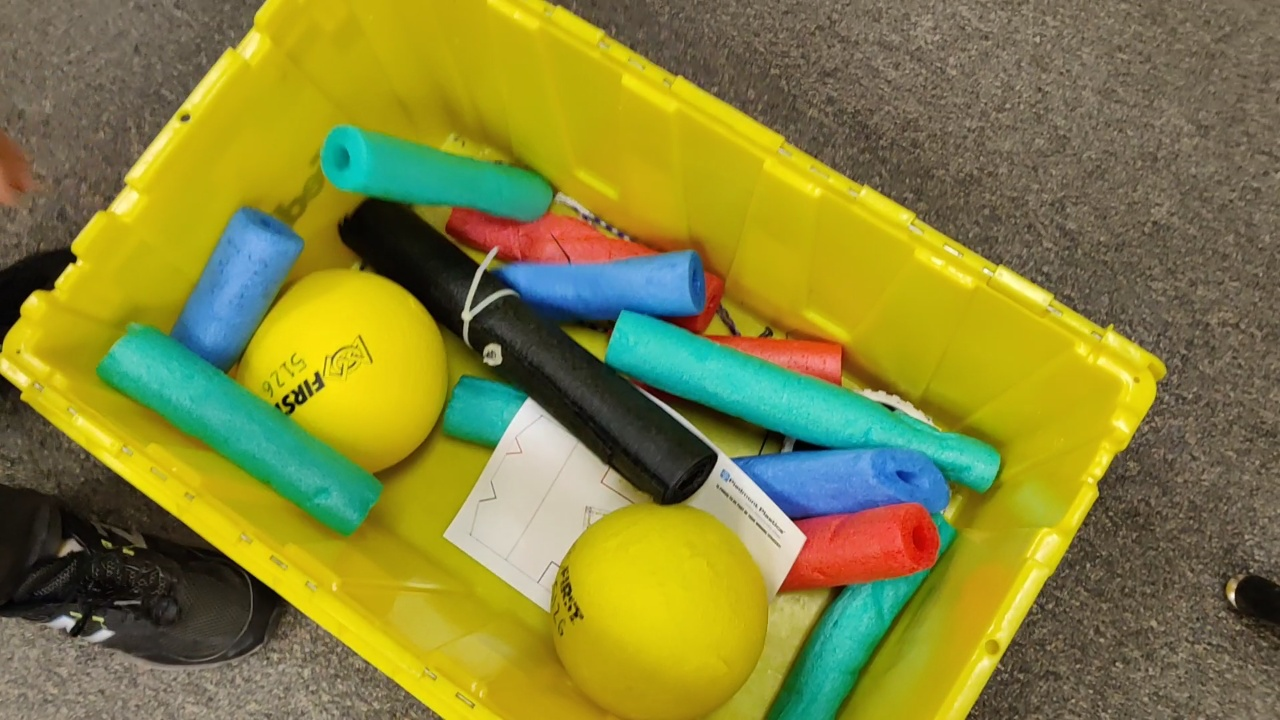Ball: (553, 499, 774, 720), (234, 265, 450, 475)
